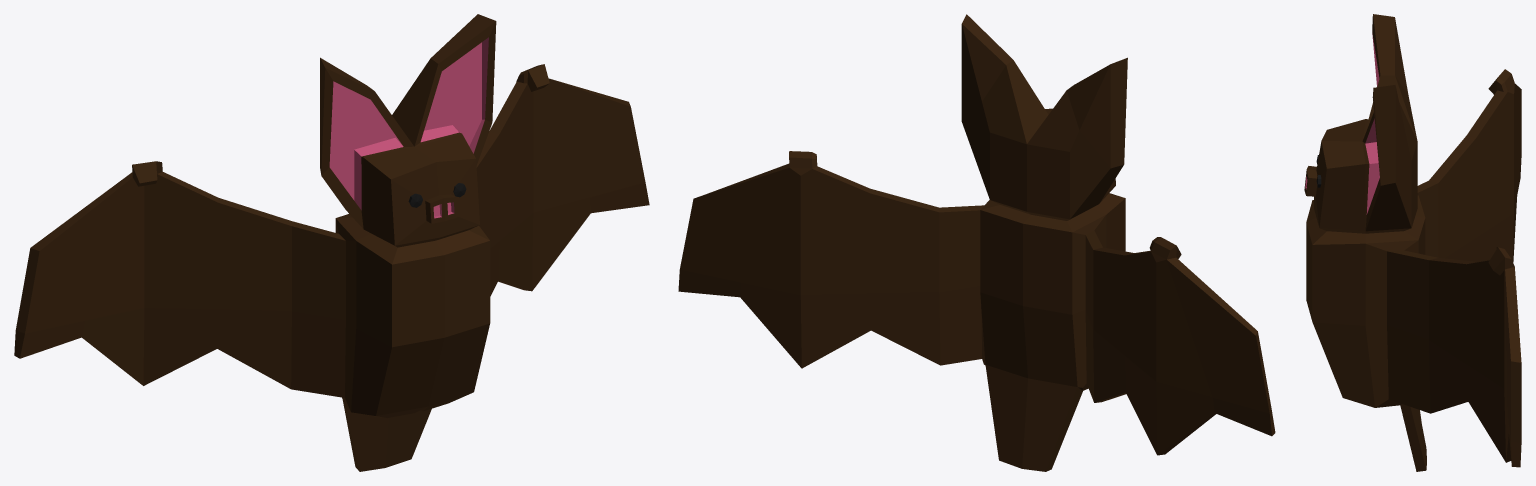
File: Bat_01.fbx
3 views of the same model, side by side, from view 1: azimuth 30°, elevation 25°; view 2: azimuth 150°, elevation 25°; view 3: azimuth 270°, elevation 25° (orthographic). The views are drawn at different scales.
Parts seen in each view (by area): view 1: Bat_01; view 2: Bat_01; view 3: Bat_01.
Part boxes in pixels (<box>): Bat_01: <box>14,14,649,471</box>; Bat_01: <box>678,14,1275,471</box>; Bat_01: <box>1304,14,1521,471</box>.
Bounding box in the file's own units: 9.72 × 6.51 × 3.09.
